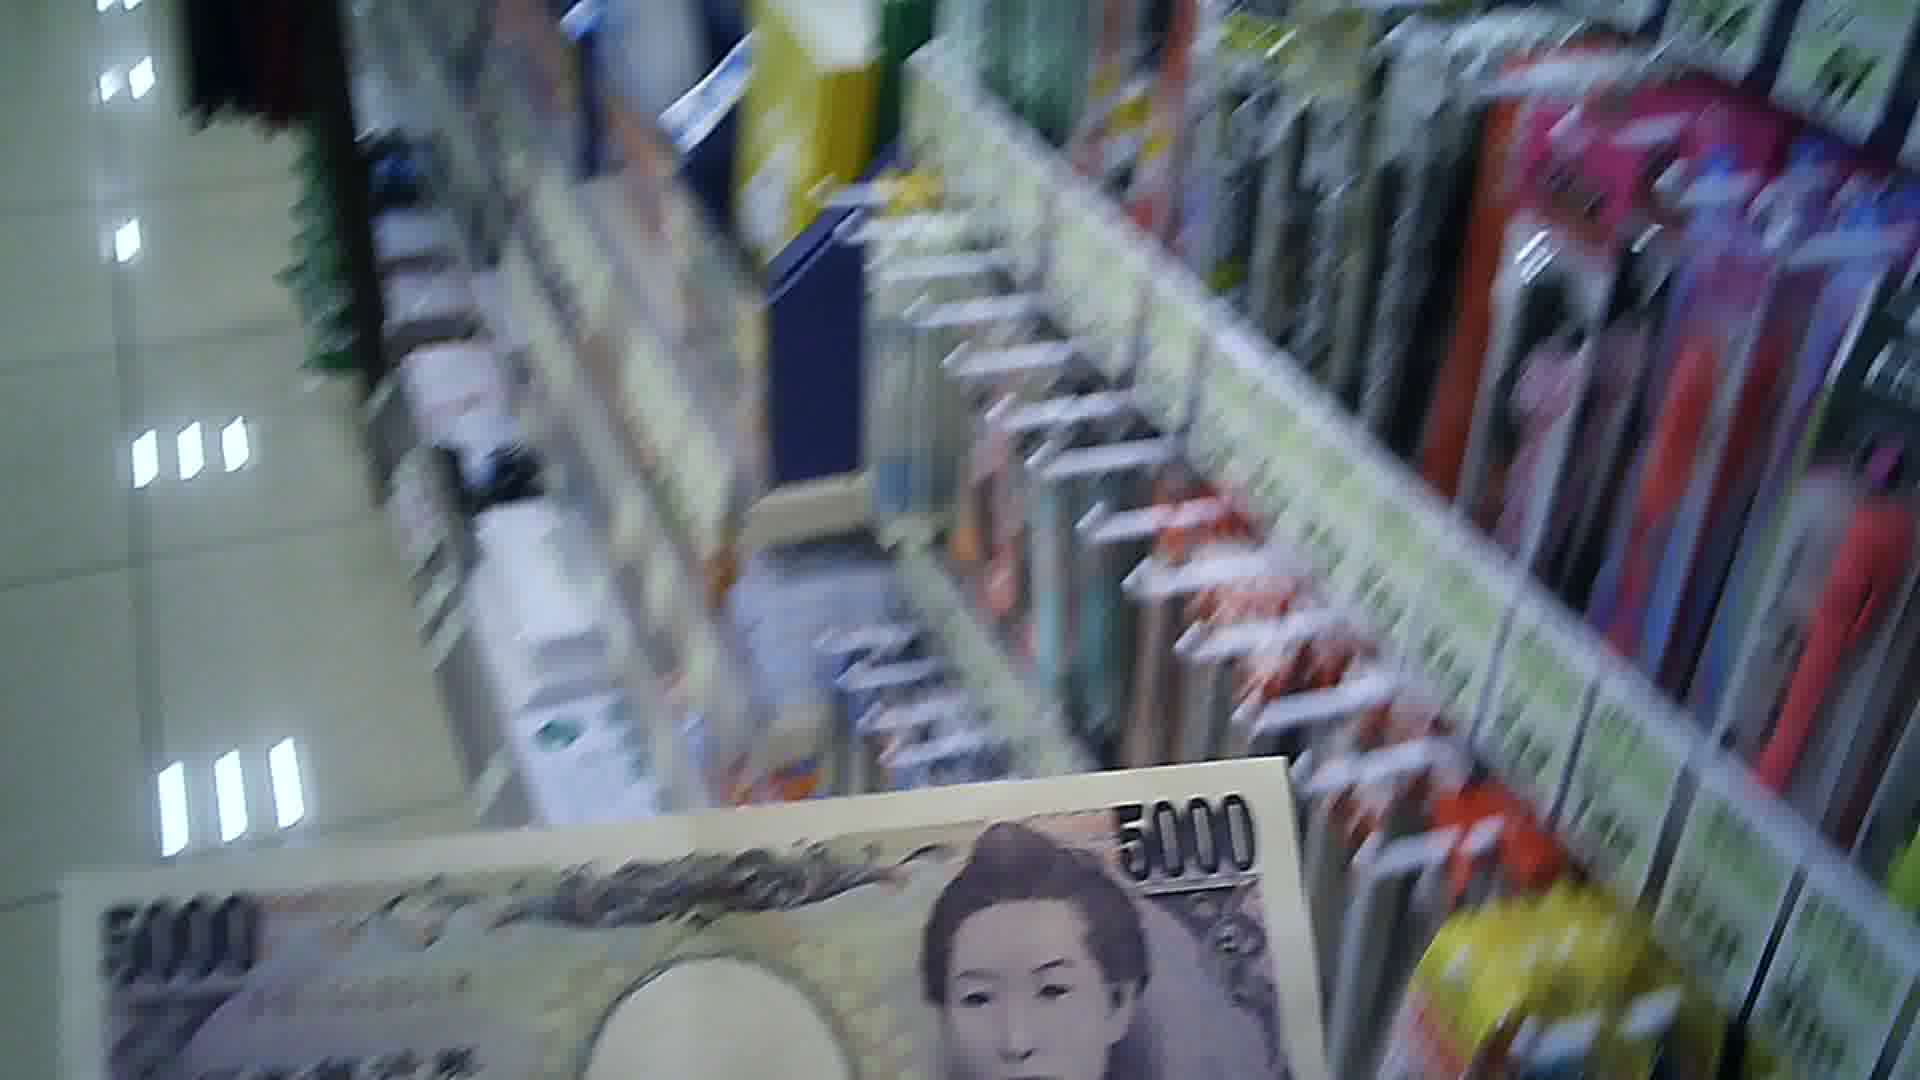5,000 Yen: (44, 771, 1300, 1079)
